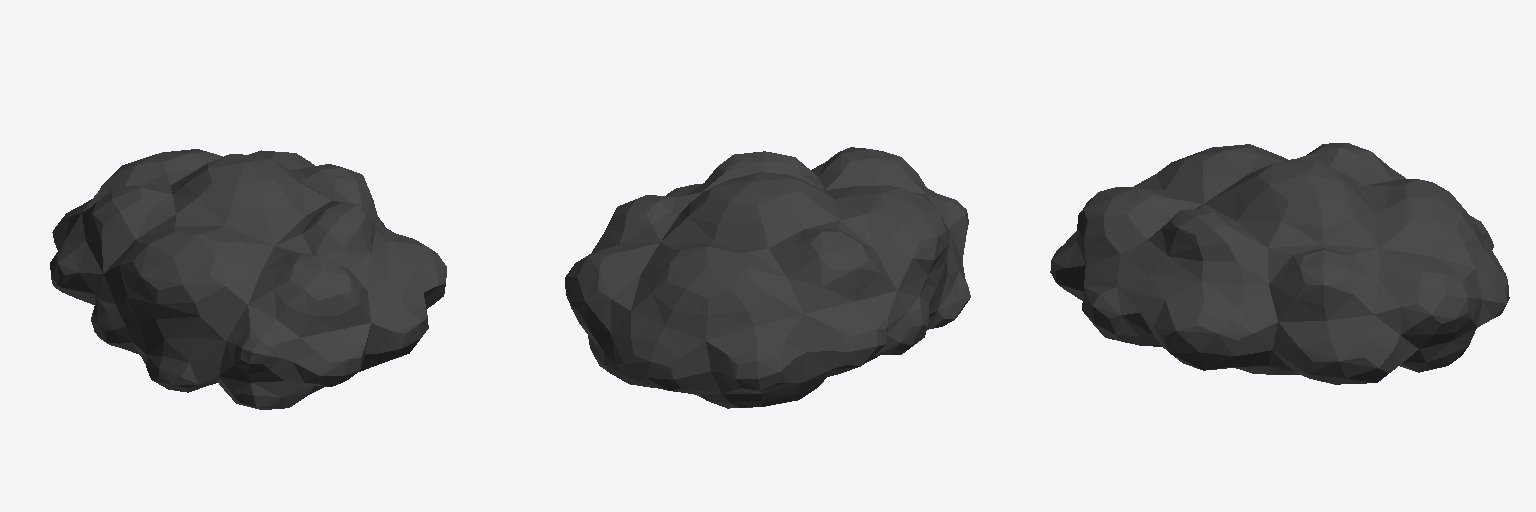
The model's file is Cloud1.obj.
3 renders of one model, left to right at view 1: azimuth 30°, elevation 25°; view 2: azimuth 150°, elevation 25°; view 3: azimuth 270°, elevation 25°, orthographic.
Visible parts, largest first — view 1: cloud; view 2: cloud; view 3: cloud.
Boxes of the visible parts, x1,y1,x2,y2 form: cloud: [50, 149, 446, 409]; cloud: [565, 147, 970, 408]; cloud: [1050, 143, 1509, 384].
Bounding box in the file's own units: 141 × 71.5 × 178.